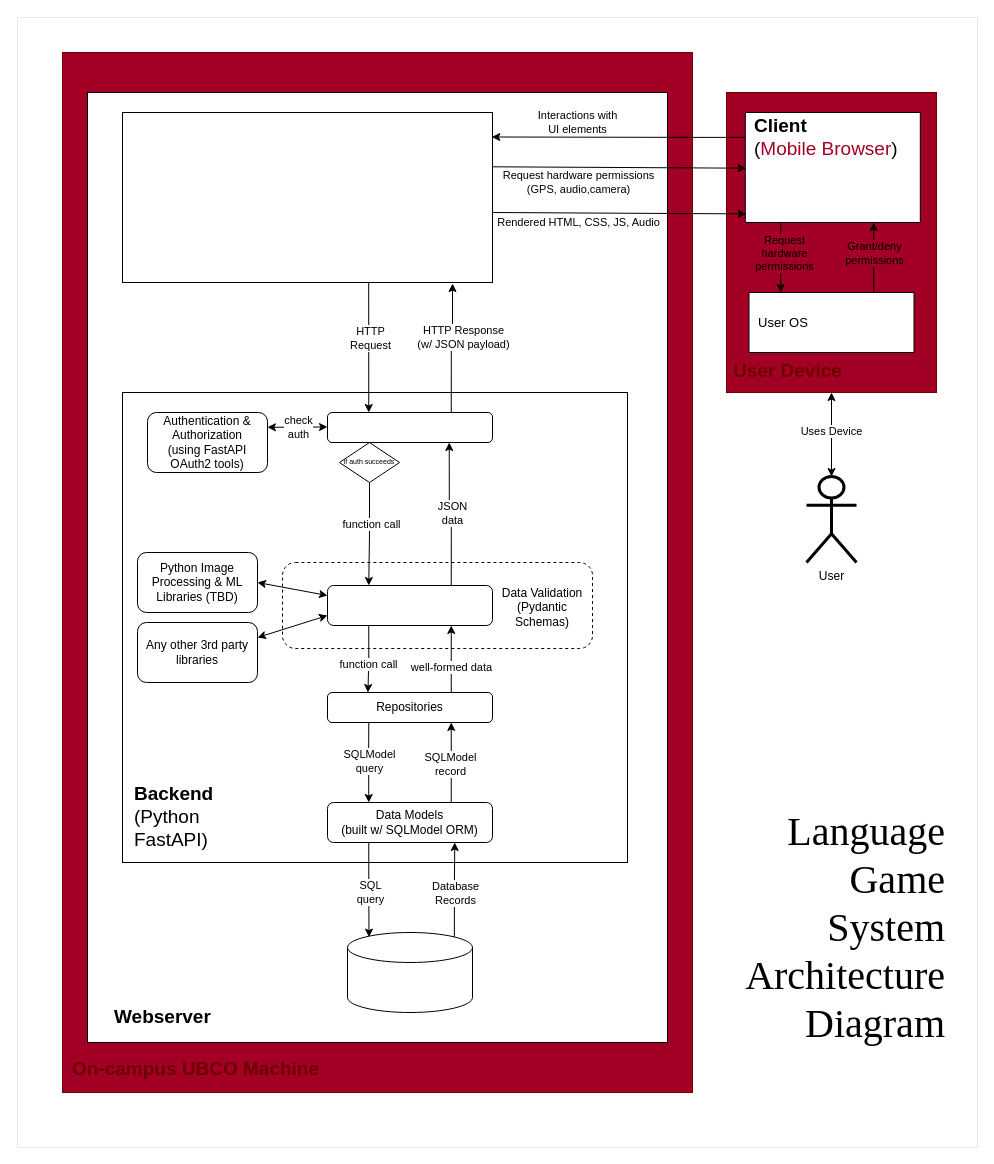
The diagram is 994 pixels wide and 1164 high, and some of its shapes have lost their labels. Each missing label, with the centre of its shape:
"Database ( PostgreSQL )" belongs at point (409, 972).
"Front-end ( Vue.js )" belongs at point (307, 197).
"Routers" belongs at point (409, 427).
"Services (Core business logic)" belongs at point (409, 605).
